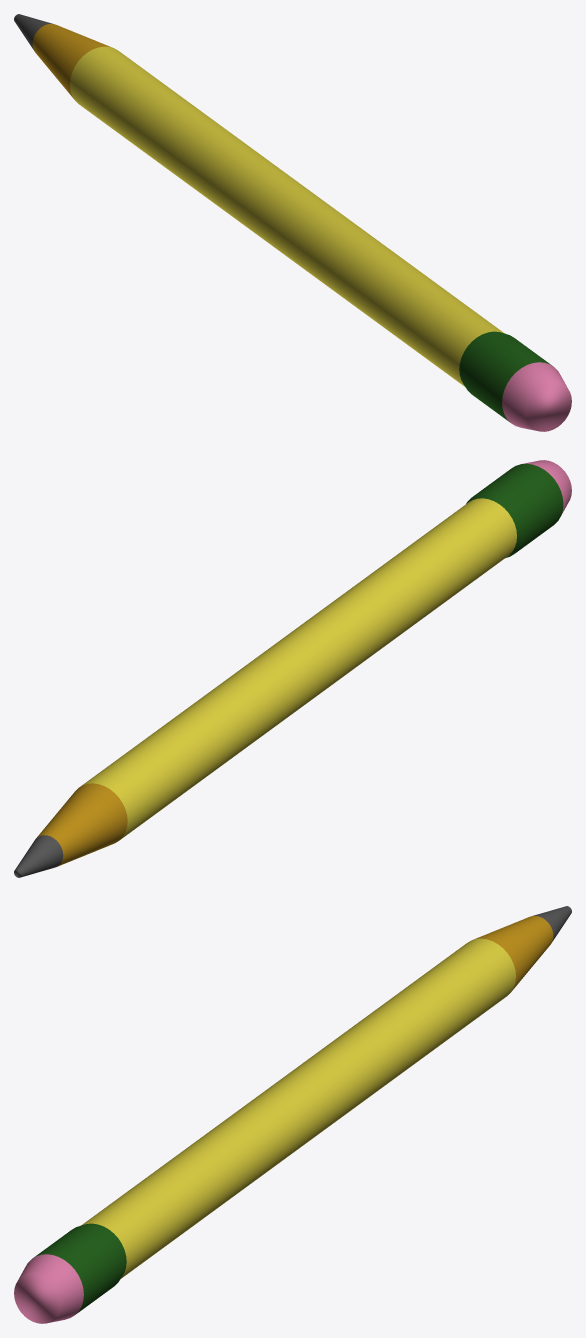
File: Pencil.fbx
3 views of the same model, one above another, from view 1: azimuth 30°, elevation 25°; view 2: azimuth 150°, elevation 25°; view 3: azimuth 330°, elevation 25° (orthographic).
Visible parts, largest first — view 1: Cylinder; view 2: Cylinder; view 3: Cylinder.
Part boxes in pixels (x1=…): Cylinder: x1=14, y1=14, x2=571, y2=431; Cylinder: x1=14, y1=460, x2=571, y2=877; Cylinder: x1=14, y1=906, x2=571, y2=1323.
Size of the model in its own units: 11.65 by 11.65 by 174.
